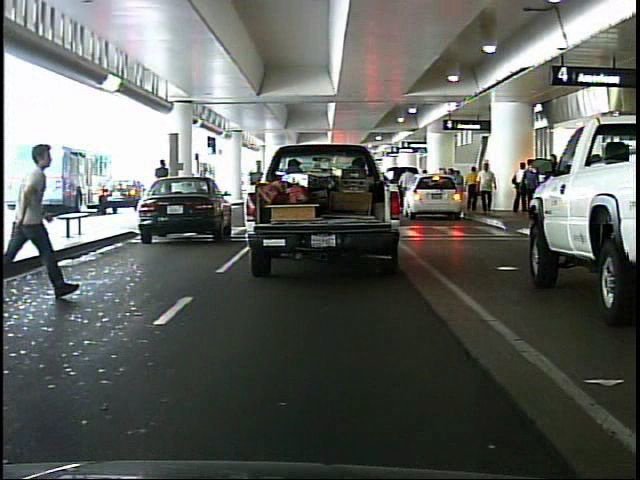person: (3, 127, 86, 314), (150, 155, 175, 217), (471, 156, 495, 218), (511, 156, 531, 216), (461, 160, 480, 220)
